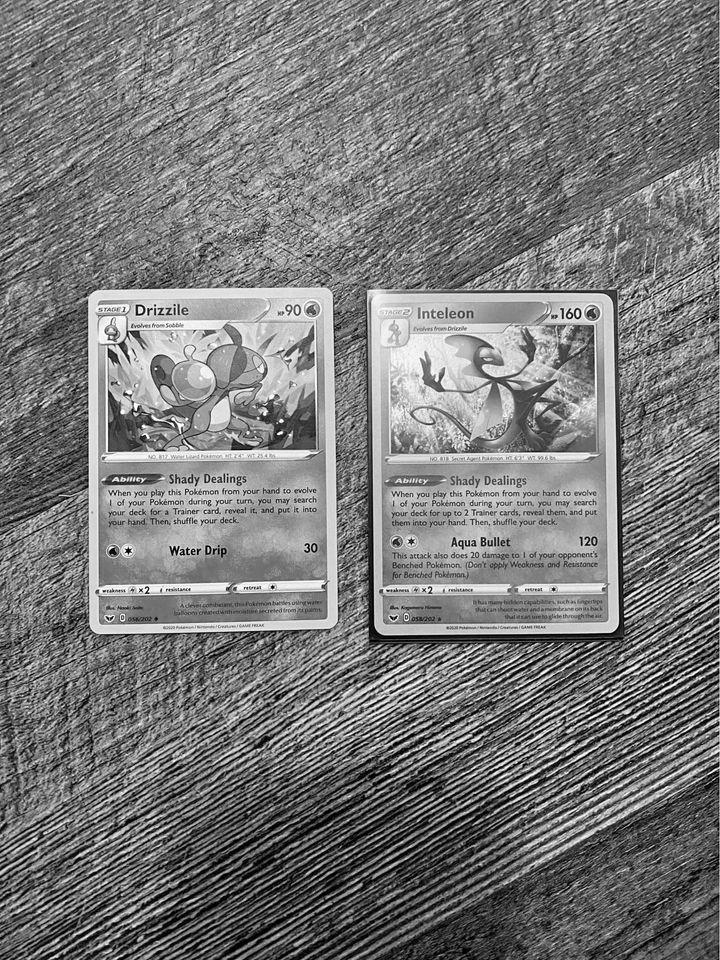card: (87, 286, 339, 635), (370, 293, 620, 637)
